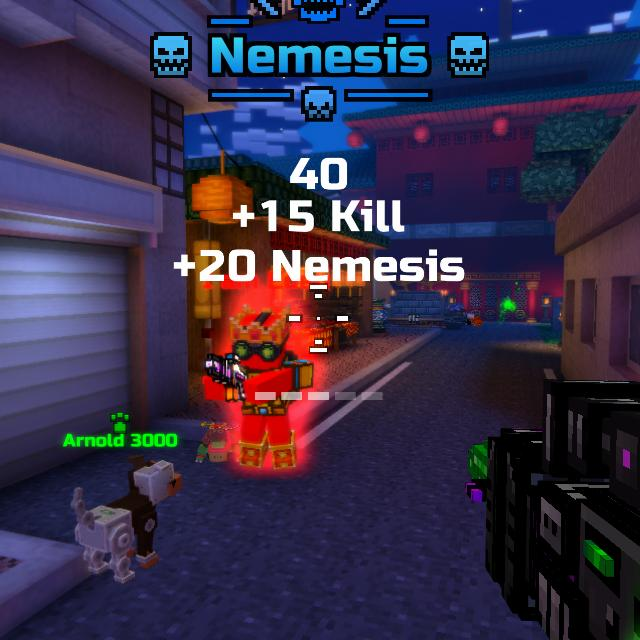Enemy: (221, 307, 316, 468)
